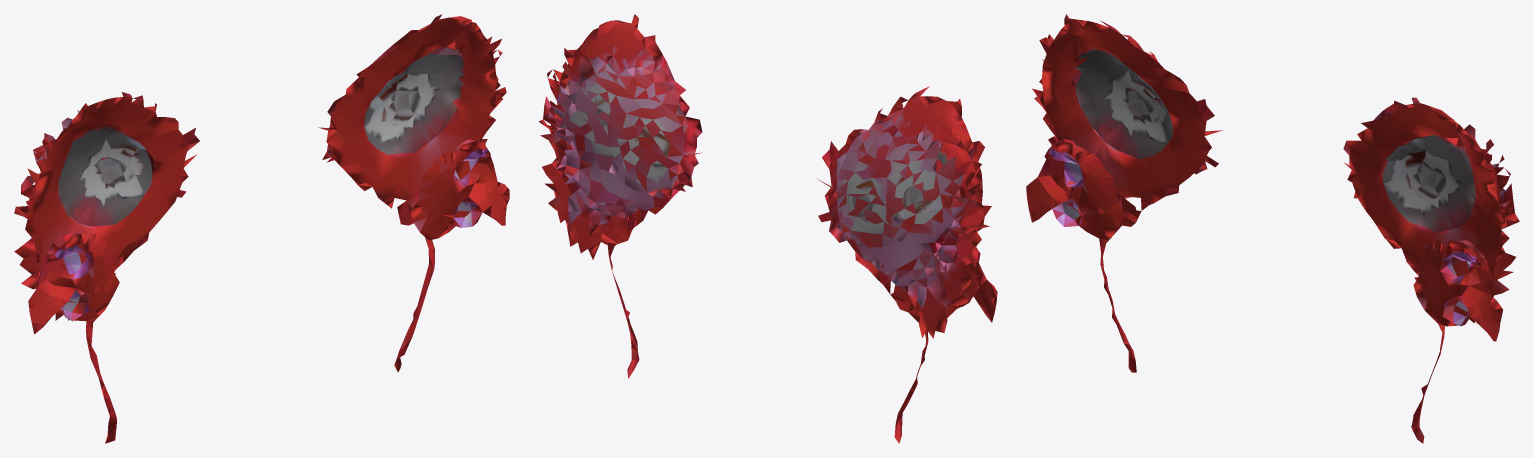
Rendered from ears.glb.
3 views of the same model, side by side, from view 1: azimuth 30°, elevation 25°; view 2: azimuth 150°, elevation 25°; view 3: azimuth 330°, elevation 25° (orthographic). The views are drawn at different scales.
Visible parts, largest first — view 1: texture_pbr_v128; view 2: texture_pbr_v128; view 3: texture_pbr_v128.
Boxes of the visible parts, bbox=[...] form: texture_pbr_v128: bbox=[14, 14, 509, 443]; texture_pbr_v128: bbox=[538, 14, 997, 443]; texture_pbr_v128: bbox=[1026, 14, 1519, 443].
Bounding box in the file's own units: 2.22 × 1.62 × 0.2594.
Materials: 1 (1 with a texture image).
